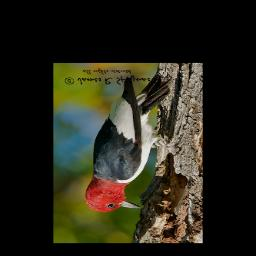Woodpecker: (86, 73, 175, 214)
